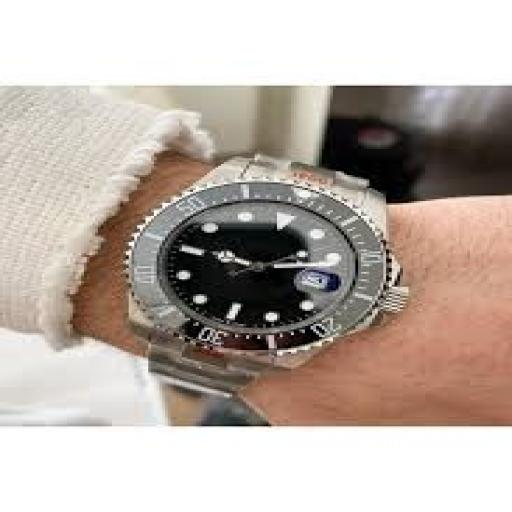KolSaati: (84, 82, 438, 424)
